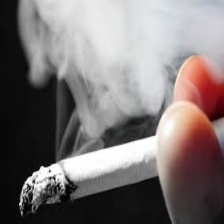smoke: (26, 3, 165, 111)
